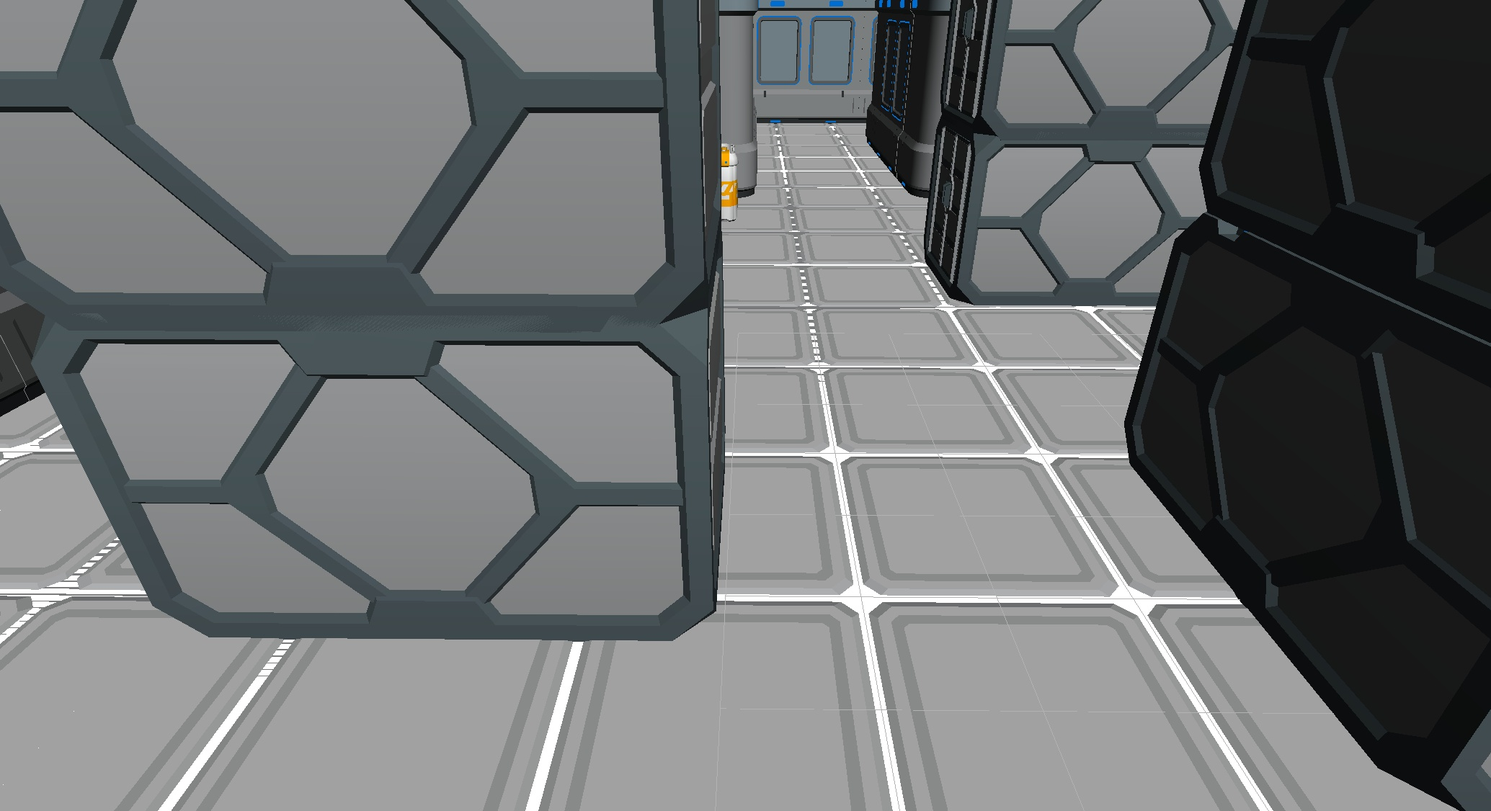yellow_barrel: (721, 143, 739, 221)
